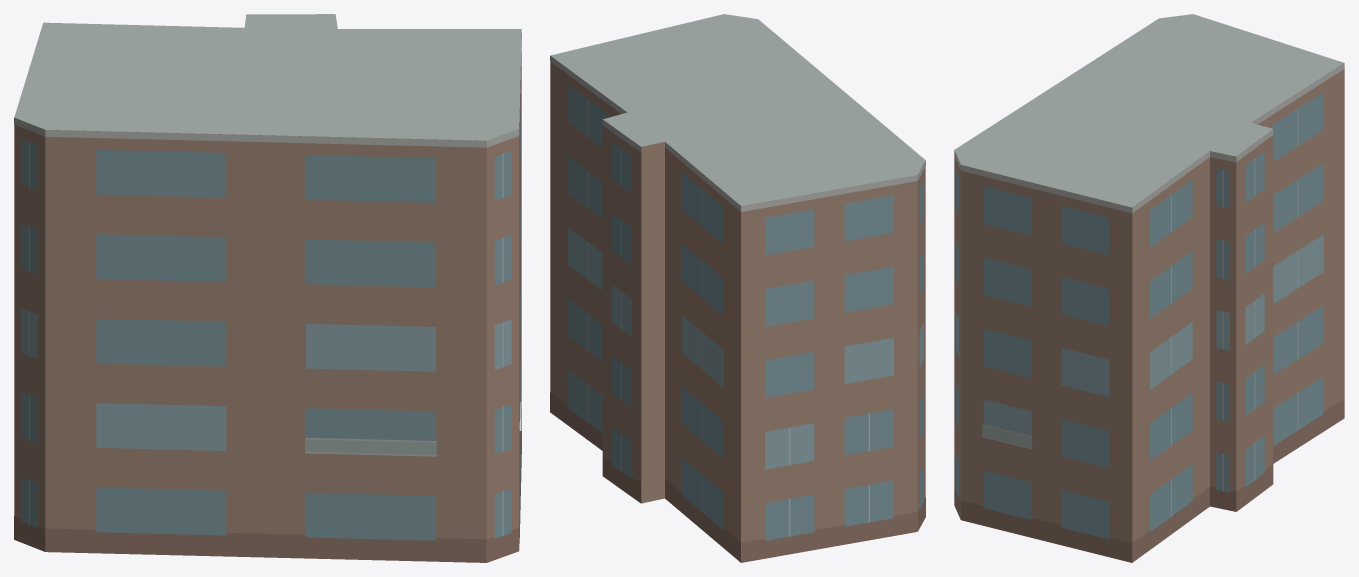
File: survey-upis-32641859.glb
The picture shows the model from 3 angles, left to right: view 1: azimuth 30°, elevation 25°; view 2: azimuth 150°, elevation 25°; view 3: azimuth 270°, elevation 25°; orthographic projection. The views are drawn at different scales.
Visible parts, largest first — view 1: survey-upis-32641859.tmp; view 2: survey-upis-32641859.tmp; view 3: survey-upis-32641859.tmp.
Part boxes in pixels (bbox=[...]): survey-upis-32641859.tmp: bbox=[14, 14, 521, 562]; survey-upis-32641859.tmp: bbox=[550, 14, 925, 562]; survey-upis-32641859.tmp: bbox=[954, 14, 1344, 562].
Size of the model in its own units: 17.18 by 14.7 by 14.64.
